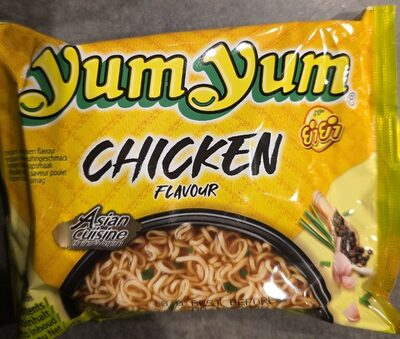Yum Yum Chicken Flavour: (20, 17, 380, 322)
